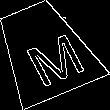M_NW: (9, 18, 80, 83)
